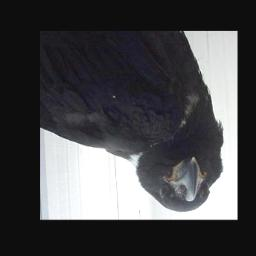Crow: (41, 31, 226, 213)
